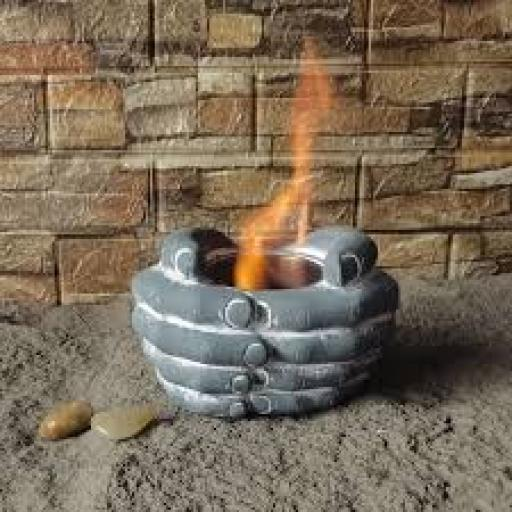fire: (228, 39, 335, 289)
